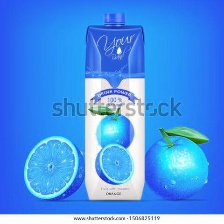carton: (81, 11, 146, 203)
